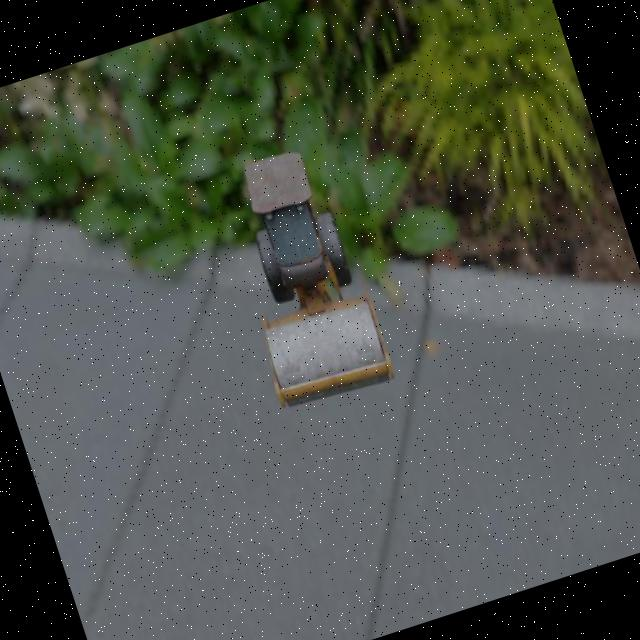Roller: (206, 140, 396, 414)
